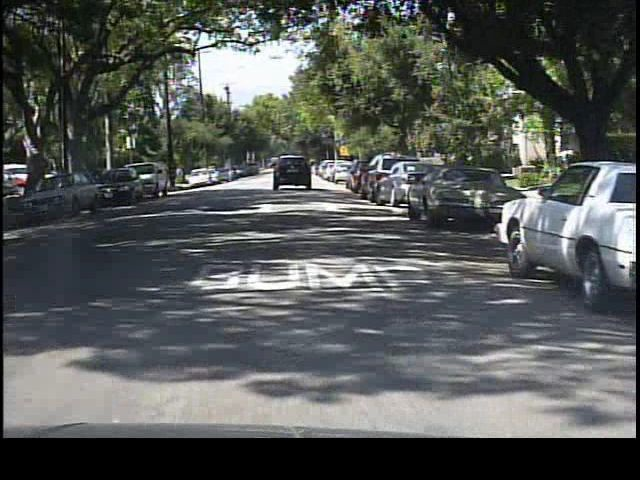person: (175, 164, 189, 192)
